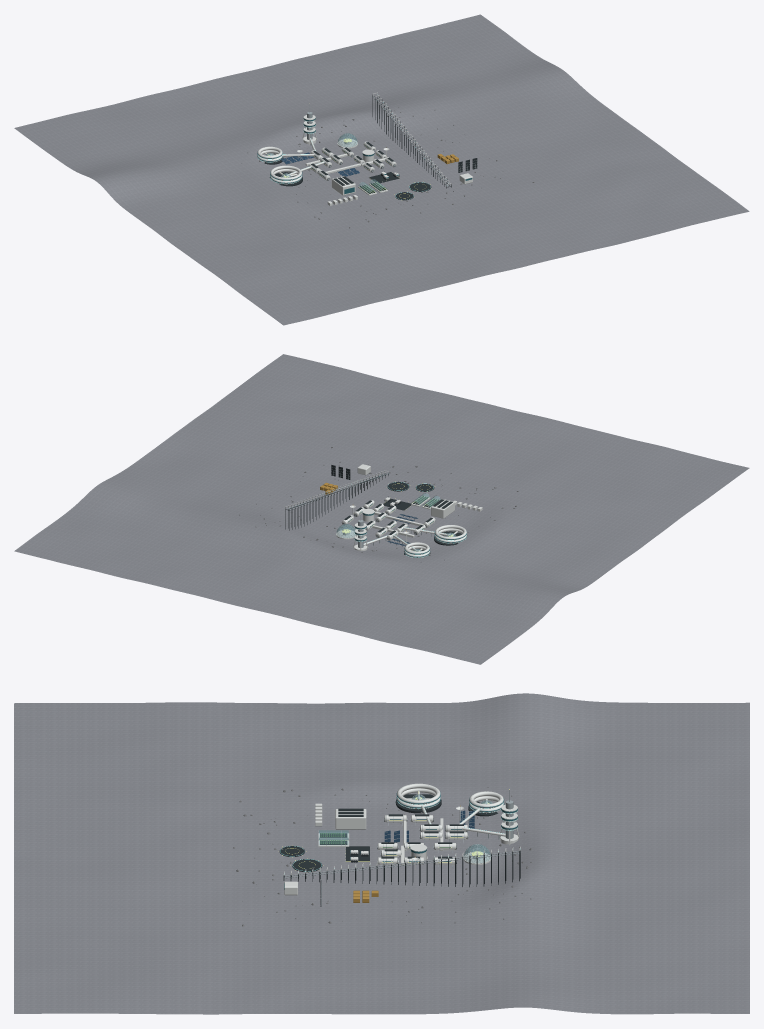
The model's file is moon-outpost-v2.glb.
3 views of the same model, one above another, from view 1: azimuth 30°, elevation 25°; view 2: azimuth 150°, elevation 25°; view 3: azimuth 270°, elevation 25° (orthographic). The views are drawn at different scales.
Visible parts, largest first — view 1: Moon regolith, Ceramic pressure skin, Graphite composite, Titanium structure; view 2: Moon regolith, Ceramic pressure skin, Graphite composite, Titanium structure; view 3: Moon regolith, Ceramic pressure skin, Graphite composite, Titanium structure, Transparent pressure glazing.
Boxes of the visible parts, bbox=[...] form: Moon regolith: bbox=[14, 14, 749, 325]; Ceramic pressure skin: bbox=[257, 92, 472, 205]; Graphite composite: bbox=[264, 95, 477, 200]; Titanium structure: bbox=[260, 96, 476, 193]; Moon regolith: bbox=[14, 354, 749, 664]; Ceramic pressure skin: bbox=[285, 464, 482, 557]; Graphite composite: bbox=[285, 465, 461, 554]; Titanium structure: bbox=[287, 467, 463, 551]; Moon regolith: bbox=[14, 693, 749, 1014]; Ceramic pressure skin: bbox=[283, 783, 520, 895]; Graphite composite: bbox=[279, 794, 520, 906]; Titanium structure: bbox=[284, 785, 519, 905]; Transparent pressure glazing: bbox=[319, 794, 491, 862].
Bounding box in the file's own units: 640 × 52.55 × 640.
12 materials, 1 textured.
